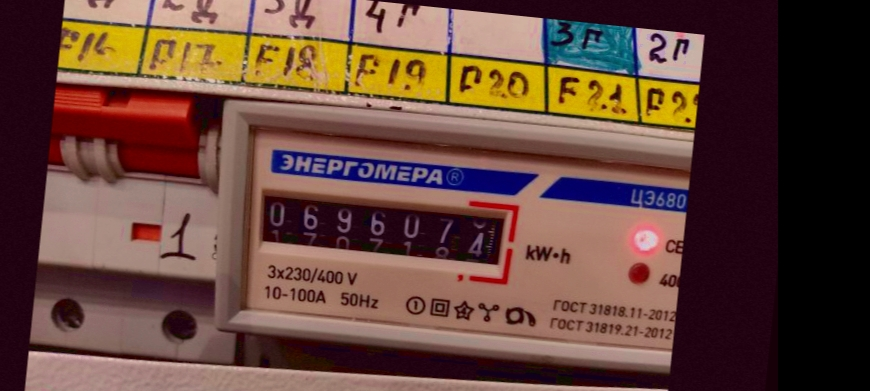0: (265, 201, 289, 231), (402, 212, 422, 242), (301, 204, 321, 232)
4: (466, 231, 486, 261)
6: (367, 208, 388, 240)
7: (434, 216, 455, 247)
9: (334, 207, 355, 236)
screen: (241, 176, 522, 287)
